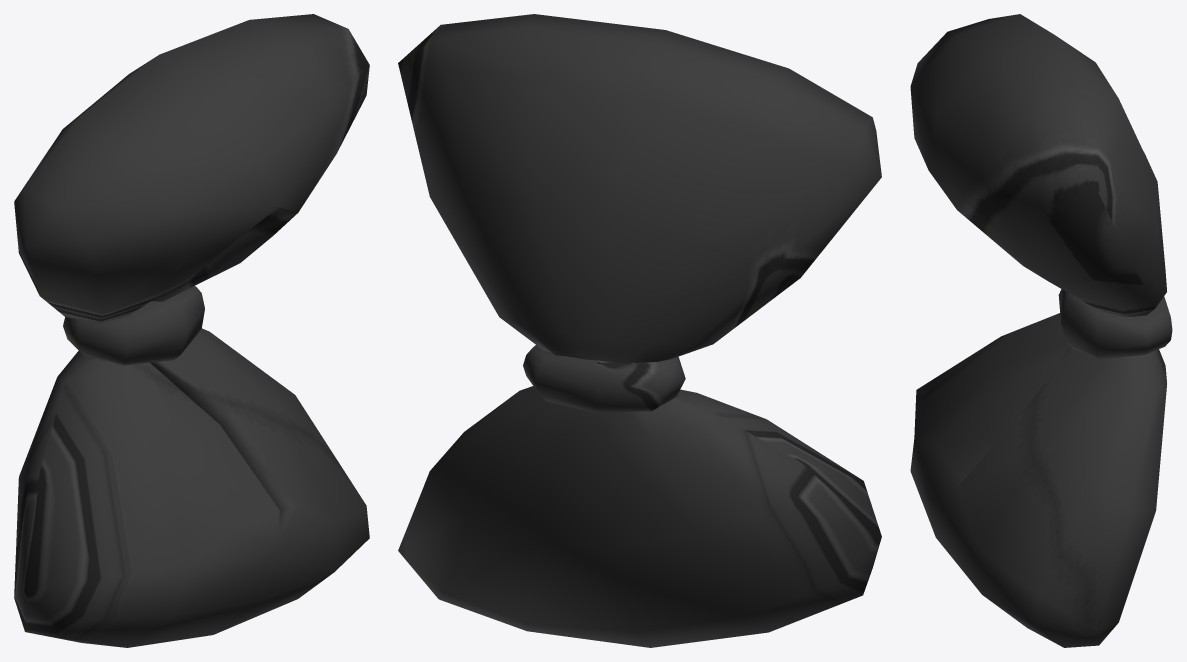
File: pm0281_00_kirlia_fashionweek_ribbon.fbx
3 renders of one model, left to right at view 1: azimuth 30°, elevation 25°; view 2: azimuth 150°, elevation 25°; view 3: azimuth 270°, elevation 25°, orthographic. The views are drawn at different scales.
Visible parts, largest first — view 1: fashionweek_ribbonSkin; view 2: fashionweek_ribbonSkin; view 3: fashionweek_ribbonSkin.
Boxes of the visible parts, x1,y1,x2,y2 form: fashionweek_ribbonSkin: (14,14,369,647); fashionweek_ribbonSkin: (398,14,881,647); fashionweek_ribbonSkin: (910,14,1172,647).
Size of the model in its own units: 0.0513 by 0.0716 by 0.031.
